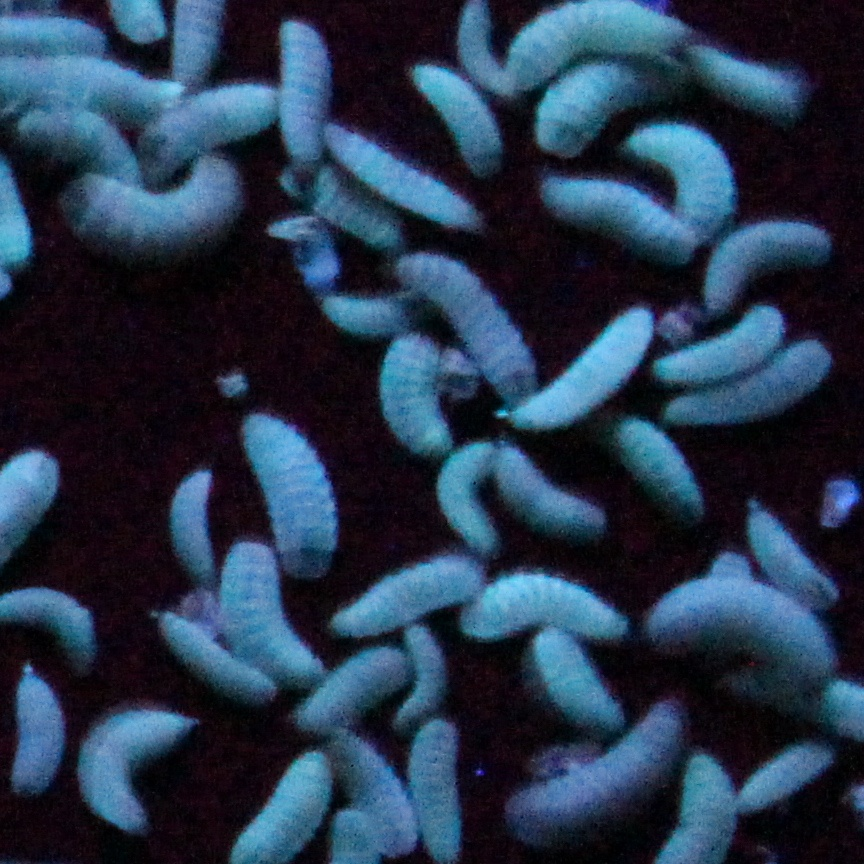larve: (645, 576, 829, 690), (505, 714, 676, 833), (397, 255, 533, 394), (521, 311, 660, 435), (211, 545, 325, 686), (72, 157, 246, 245), (331, 121, 468, 226), (339, 545, 488, 637), (78, 715, 198, 827), (153, 72, 280, 172), (675, 33, 824, 118), (514, 53, 641, 150), (538, 172, 709, 243), (655, 348, 833, 416), (254, 421, 331, 570), (414, 57, 509, 170), (485, 443, 604, 533), (525, 623, 629, 723), (380, 331, 460, 460), (702, 226, 829, 306), (339, 739, 423, 853), (460, 576, 633, 631), (737, 494, 825, 600), (156, 623, 274, 702), (658, 314, 785, 387), (305, 655, 421, 729), (7, 661, 64, 806), (277, 16, 333, 160), (433, 433, 497, 555), (648, 133, 733, 223), (623, 417, 700, 510), (156, 455, 217, 572), (312, 184, 416, 250), (396, 615, 453, 729), (741, 743, 831, 810), (458, 1, 514, 84), (292, 301, 416, 331)
